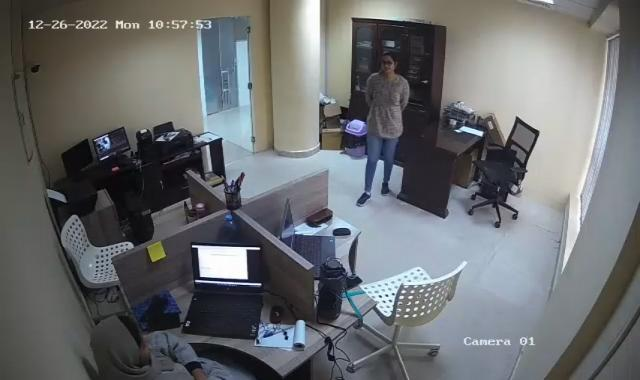no_hairnet: (89, 313, 148, 374), (380, 53, 397, 72)
